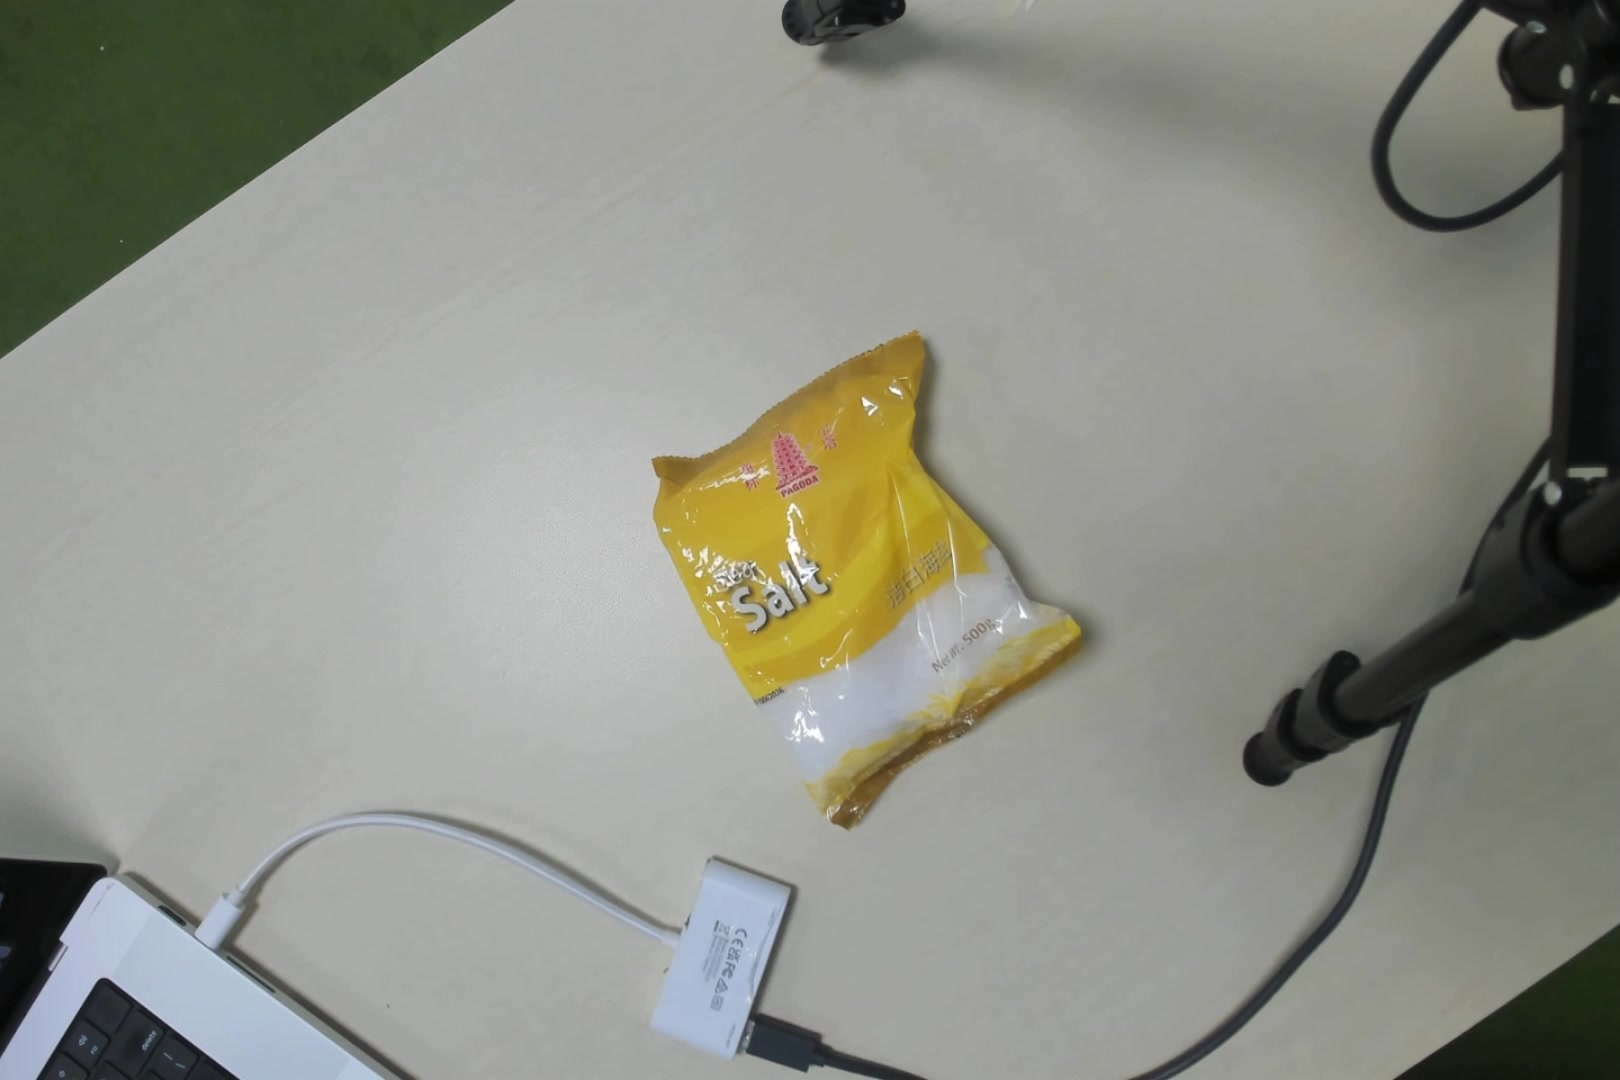Salt_500-599g_Halal_NonHealthy: (695, 406, 1060, 770)
